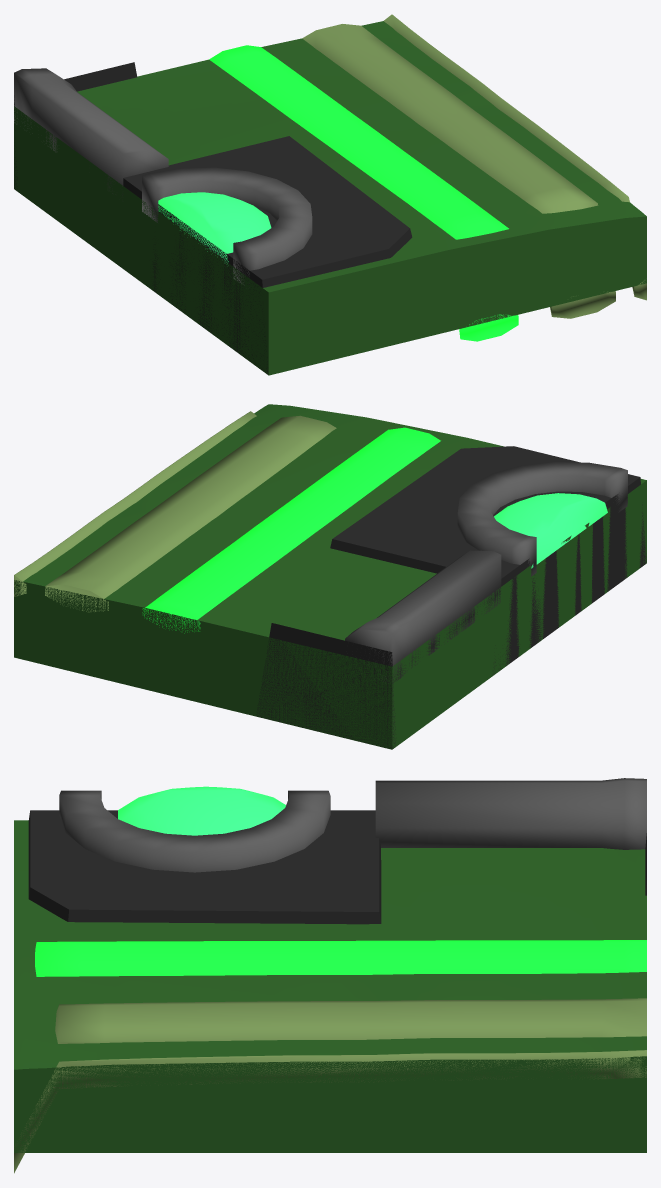
File: newshj-233-f2.glb
3 renders of one model, top to bottom at view 1: azimuth 30°, elevation 25°; view 2: azimuth 150°, elevation 25°; view 3: azimuth 270°, elevation 25°, orthographic. The views are drawn at different scales.
Parts seen in each view (by area): view 1: newshj-233-f2; view 2: newshj-233-f2; view 3: newshj-233-f2.
Boxes of the visible parts, x1,y1,x2,y2 form: newshj-233-f2: [14, 14, 646, 375]; newshj-233-f2: [14, 404, 646, 749]; newshj-233-f2: [14, 778, 646, 1173].
Bounding box in the file's own units: 2 × 0.6854 × 2.33.
